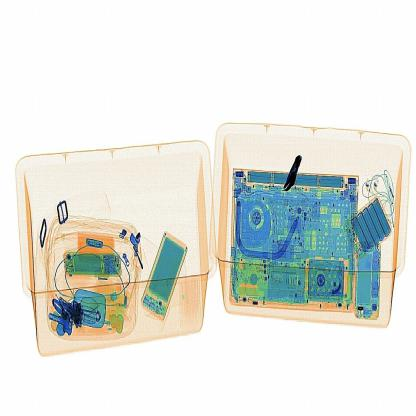knife: (283, 158, 306, 197)
